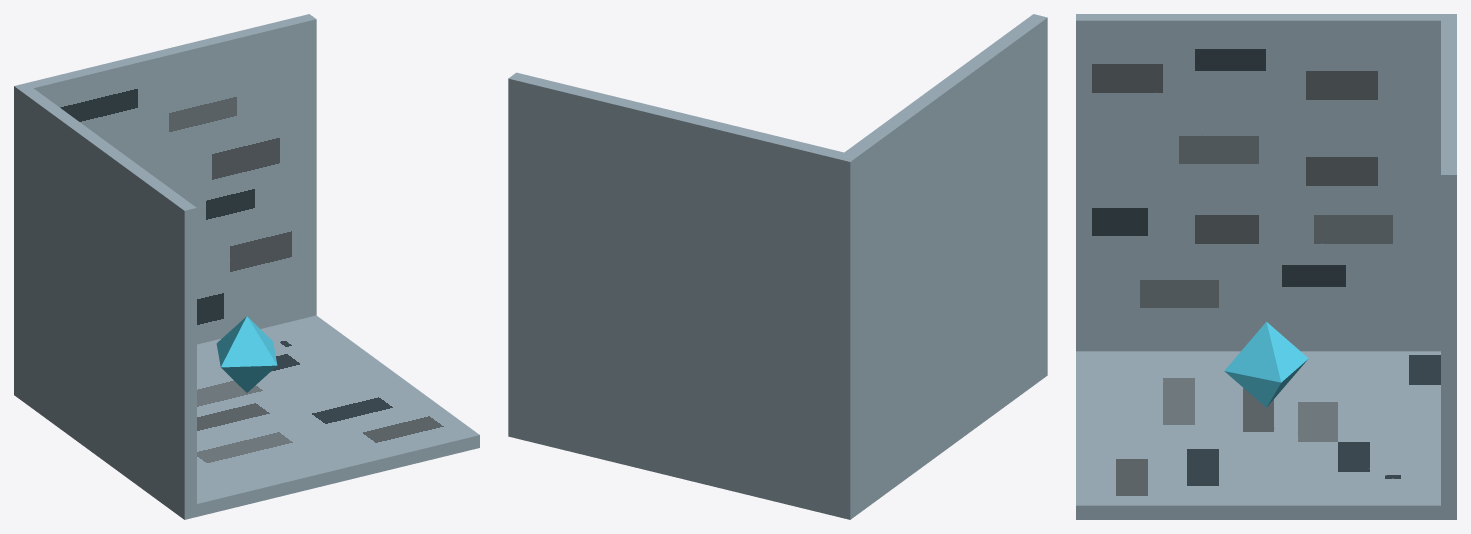
The picture shows the model from 3 angles, left to right: view 1: azimuth 30°, elevation 25°; view 2: azimuth 150°, elevation 25°; view 3: azimuth 270°, elevation 25°; orthographic projection. The views are drawn at different scales.
Visible parts, largest first — view 1: cuboid, pyramid; view 2: cuboid; view 3: cuboid, pyramid.
Part boxes in pixels (box(x1,y1,x2,y2)): cuboid: box(14, 14, 479, 519); pyramid: box(216, 316, 277, 392); cuboid: box(508, 14, 1047, 519); cuboid: box(1076, 14, 1456, 519); pyramid: box(1224, 322, 1308, 407).
Bounding box in the file's own units: 3 × 3 × 3.
2 materials, 2 textured.
